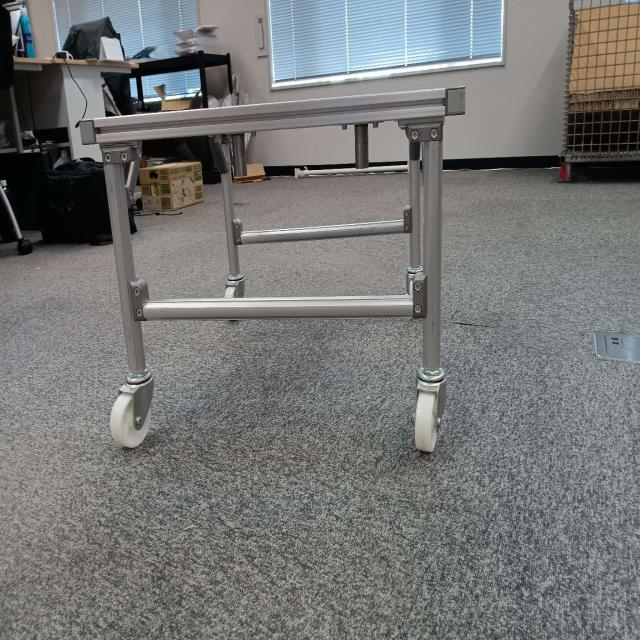side: (96, 91, 442, 321)
